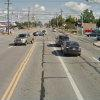Car: (52, 26, 85, 63)
